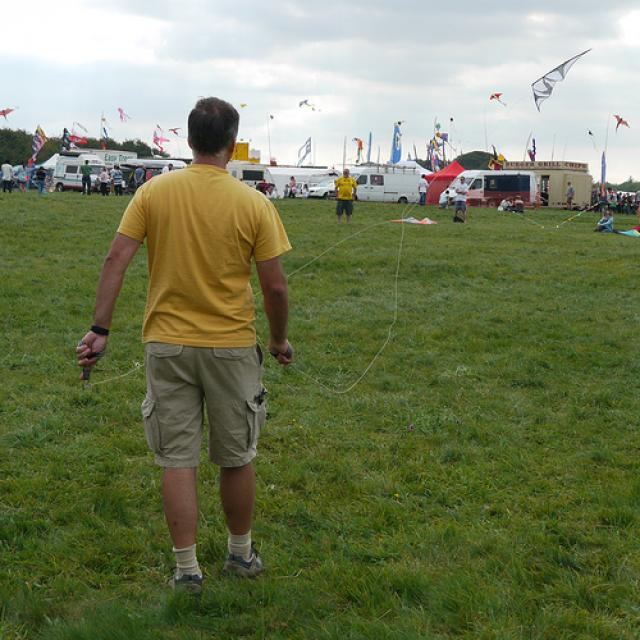Vehicle: (308, 162, 422, 204), (441, 168, 541, 210), (446, 168, 540, 209), (42, 146, 138, 182), (54, 154, 113, 192), (308, 180, 337, 197)
